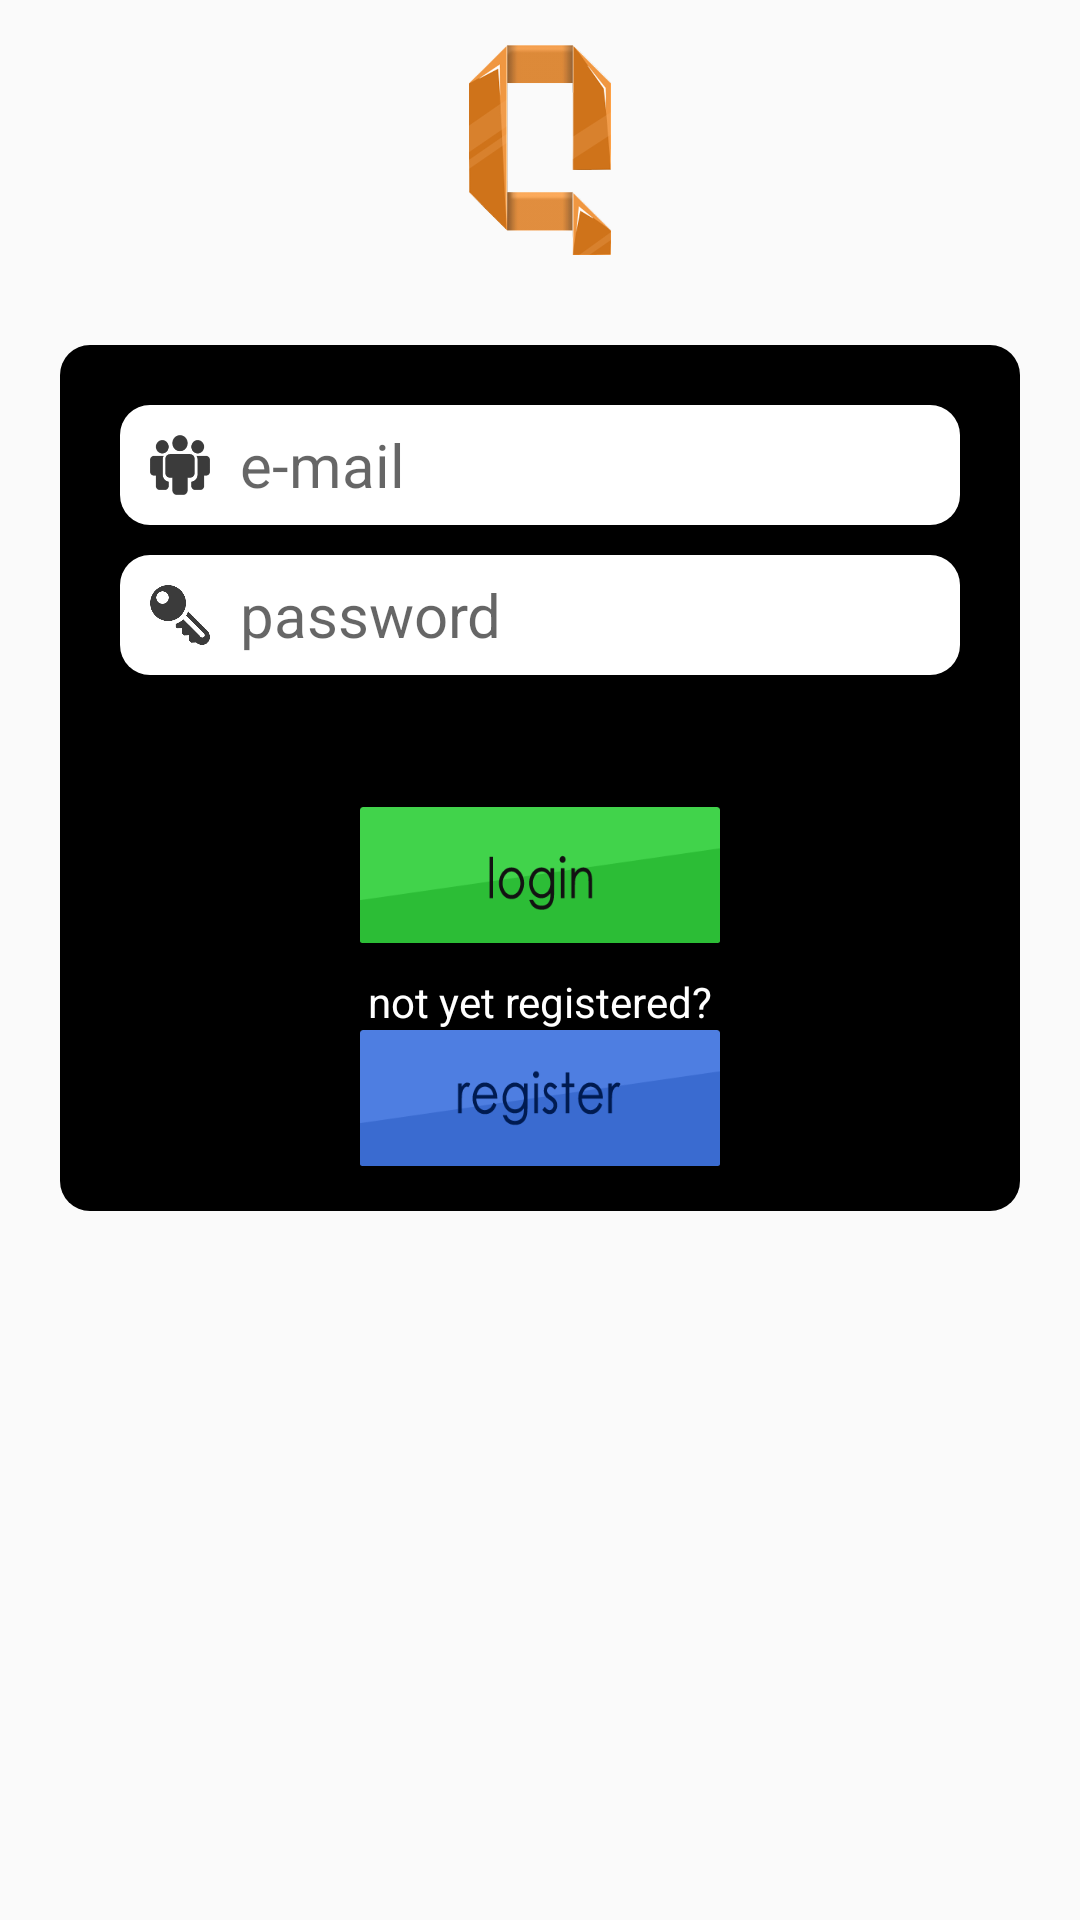

Locate icon controls on the screen. Image size 1080px×1920px, boxes as (x1, y1, x2, y2).
key: (150, 585, 210, 645)
user: (150, 435, 210, 495)
